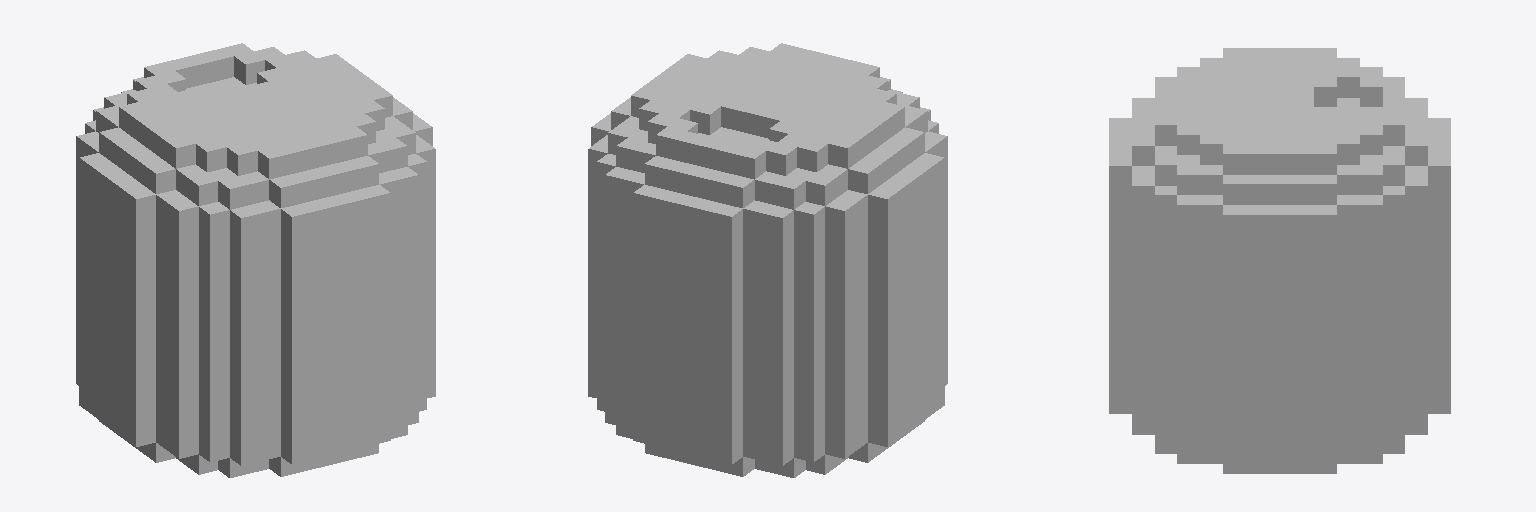
The model's file is Barrel.obj.
3 views of the same model, side by side, from view 1: azimuth 30°, elevation 25°; view 2: azimuth 150°, elevation 25°; view 3: azimuth 270°, elevation 25° (orthographic).
Visible parts, largest first — view 1: Barrel; view 2: Barrel; view 3: Barrel.
Part boxes in pixels (bbox=[...]): Barrel: bbox=[76, 43, 435, 477]; Barrel: bbox=[588, 43, 947, 477]; Barrel: bbox=[1109, 48, 1450, 473].
Bounding box in the file's own units: 15 × 15 × 15.